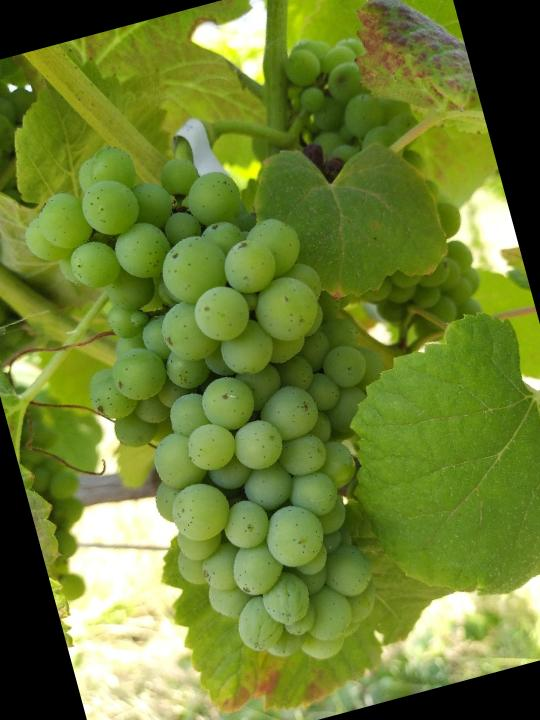grape: (9, 94, 443, 714)
